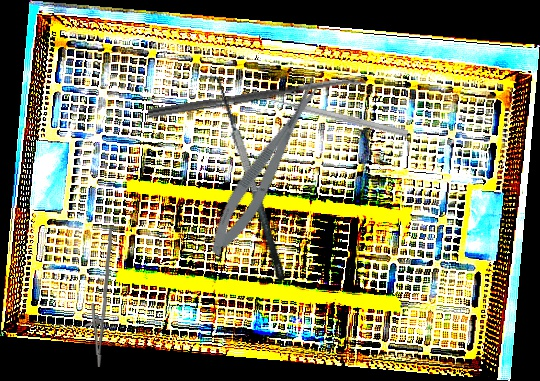Micro Scissor: (199, 72, 335, 262)
Needle Holder: (81, 228, 118, 368)
Pusher: (257, 91, 409, 139)
Spatula Surgical: (199, 67, 289, 288)
Surgical Spoon: (147, 74, 367, 120)
